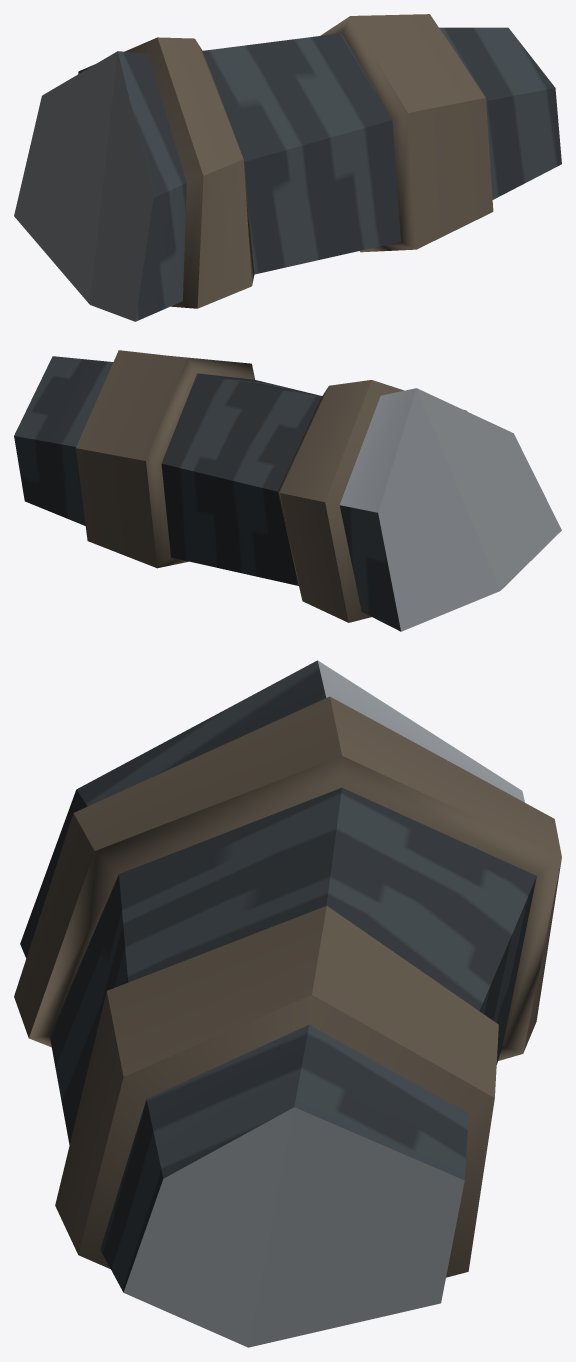
The model's file is Chr_ArmUpperLeft_Male_02_Static.fbx.
3 views of the same model, one above another, from view 1: azimuth 30°, elevation 25°; view 2: azimuth 150°, elevation 25°; view 3: azimuth 270°, elevation 25° (orthographic). The views are drawn at different scales.
Parts seen in each view (by area): view 1: Chr_ArmUpperLeft_Male_02_Static; view 2: Chr_ArmUpperLeft_Male_02_Static; view 3: Chr_ArmUpperLeft_Male_02_Static.
Part boxes in pixels (left/top/right/bottom): Chr_ArmUpperLeft_Male_02_Static: left=14, top=14, right=561, bottom=321; Chr_ArmUpperLeft_Male_02_Static: left=14, top=350, right=561, bottom=631; Chr_ArmUpperLeft_Male_02_Static: left=14, top=660, right=561, bottom=1347.
Size of the model in its own units: 0.3204 by 0.1613 by 0.1867.
